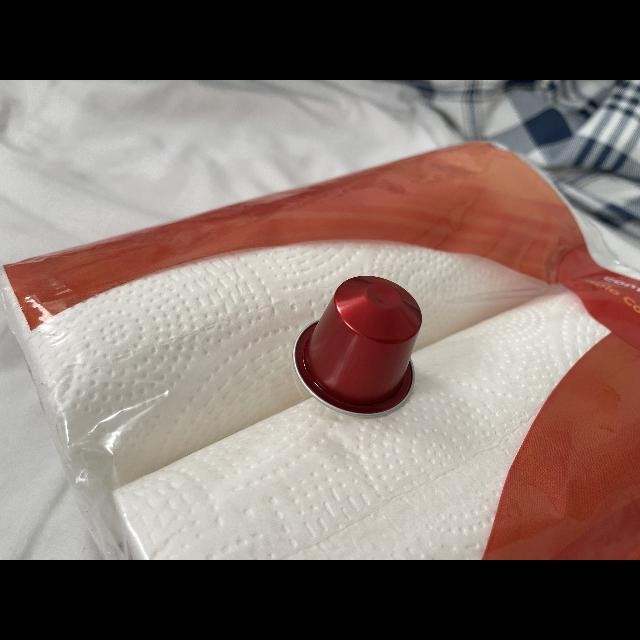intact_capsule: (277, 268, 438, 430)
